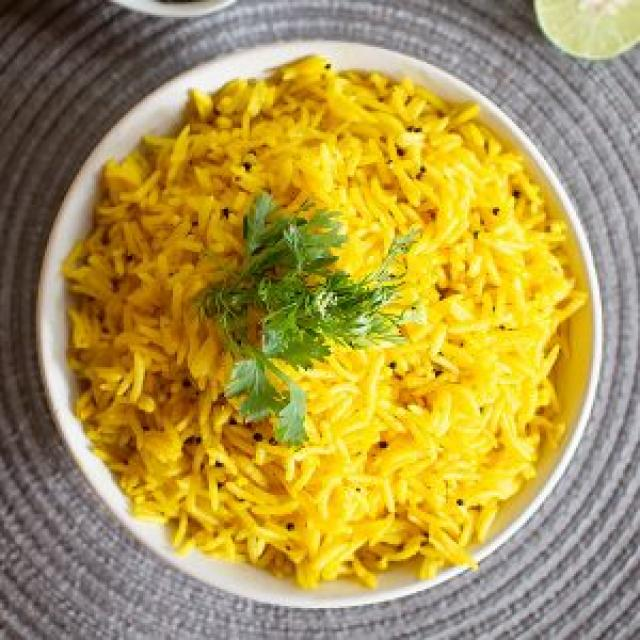lemon rice: (55, 41, 600, 603)
